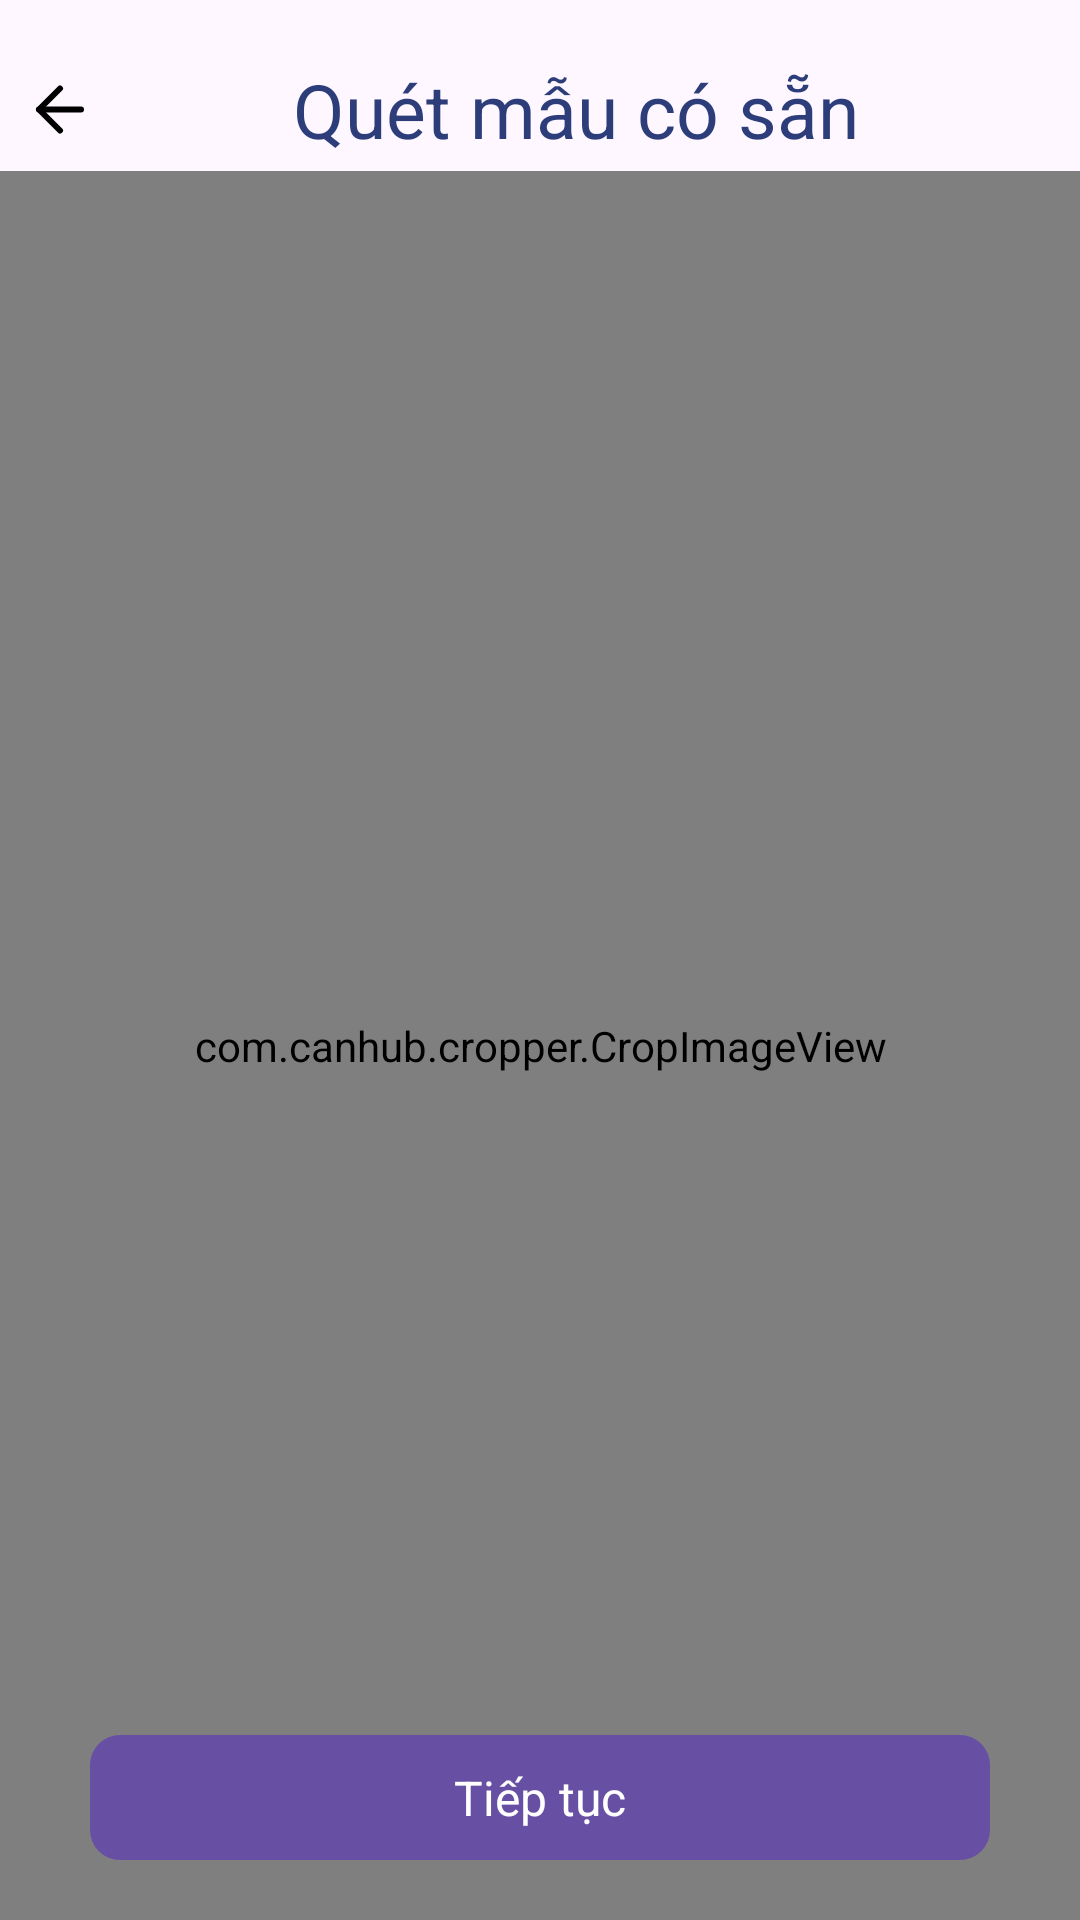

Locate icon controls on the screen. Image size 1080x1920, boxes as region(x1, y1, x2, y2).
back: region(35, 85, 84, 134)
